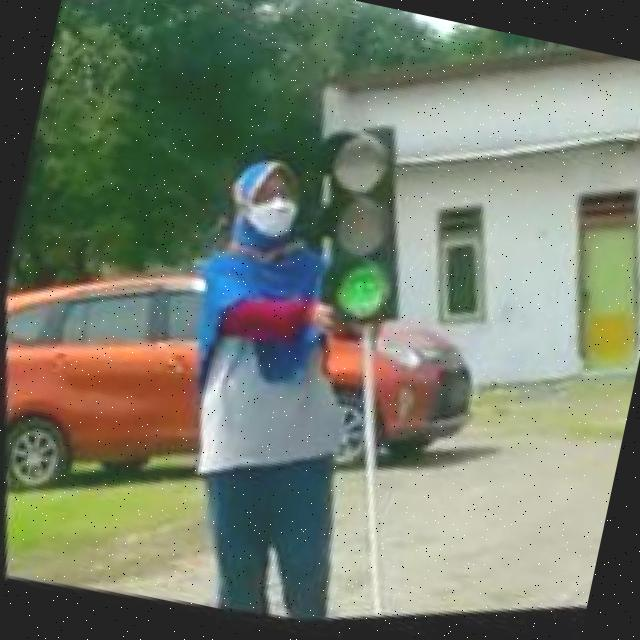green_light: (278, 116, 432, 347)
